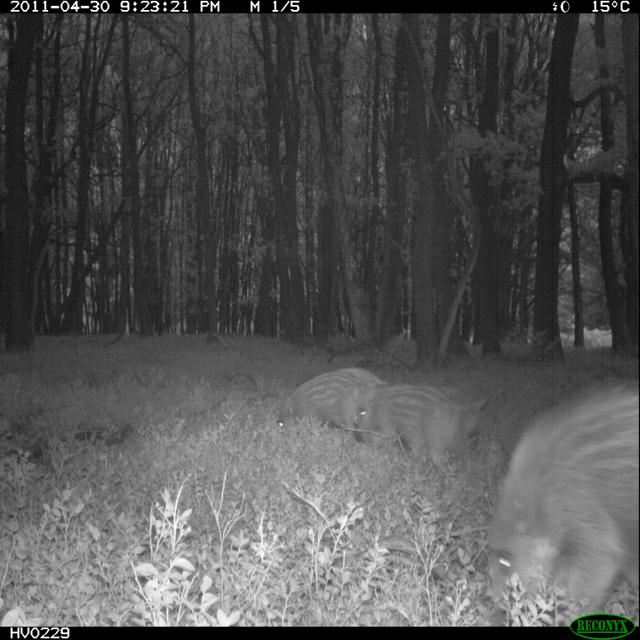boar: (468, 360, 640, 624), (258, 314, 406, 477), (338, 350, 505, 478)
